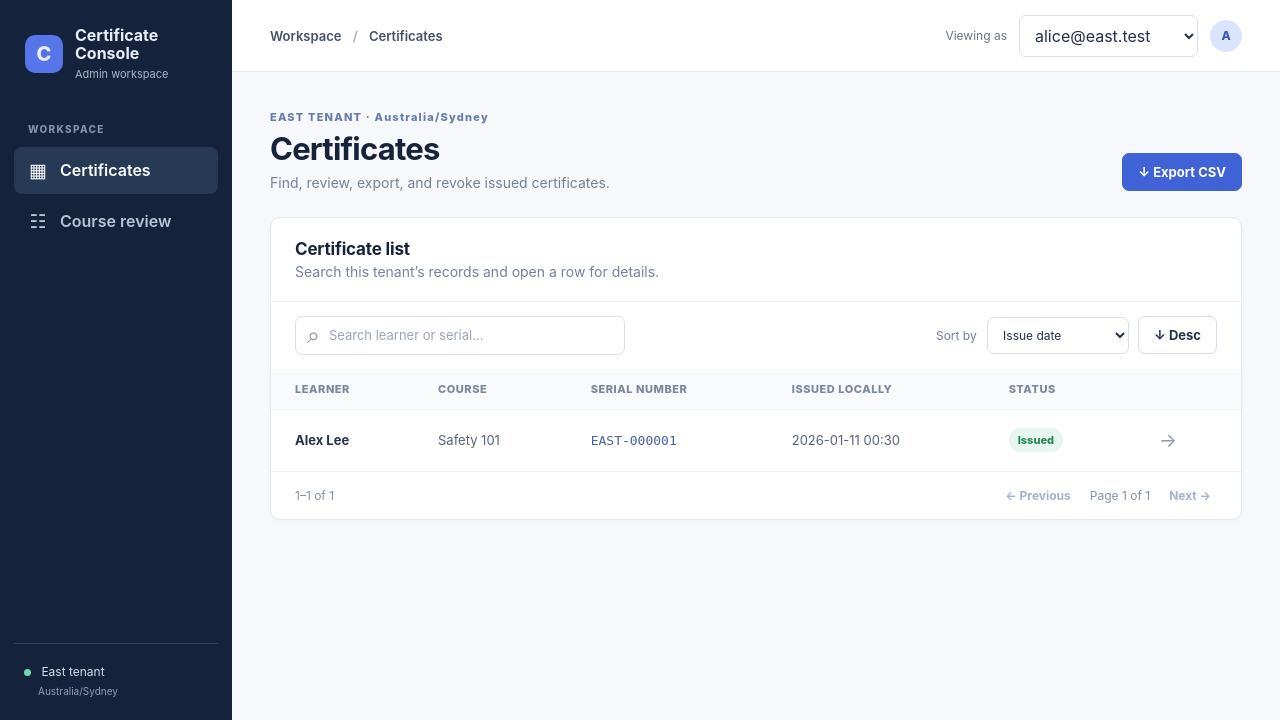
Test: certificate console › loads admins, uses /me tenant, and clears East data on actor switch
The image size is (1280, 720).
Expected: the text "EAST-000001" is shown, [567,409,768,471]
Select "bob@west.test" in the dropdown labelled "Viewing as" at [1108, 36], box [1019,14,1198,56]
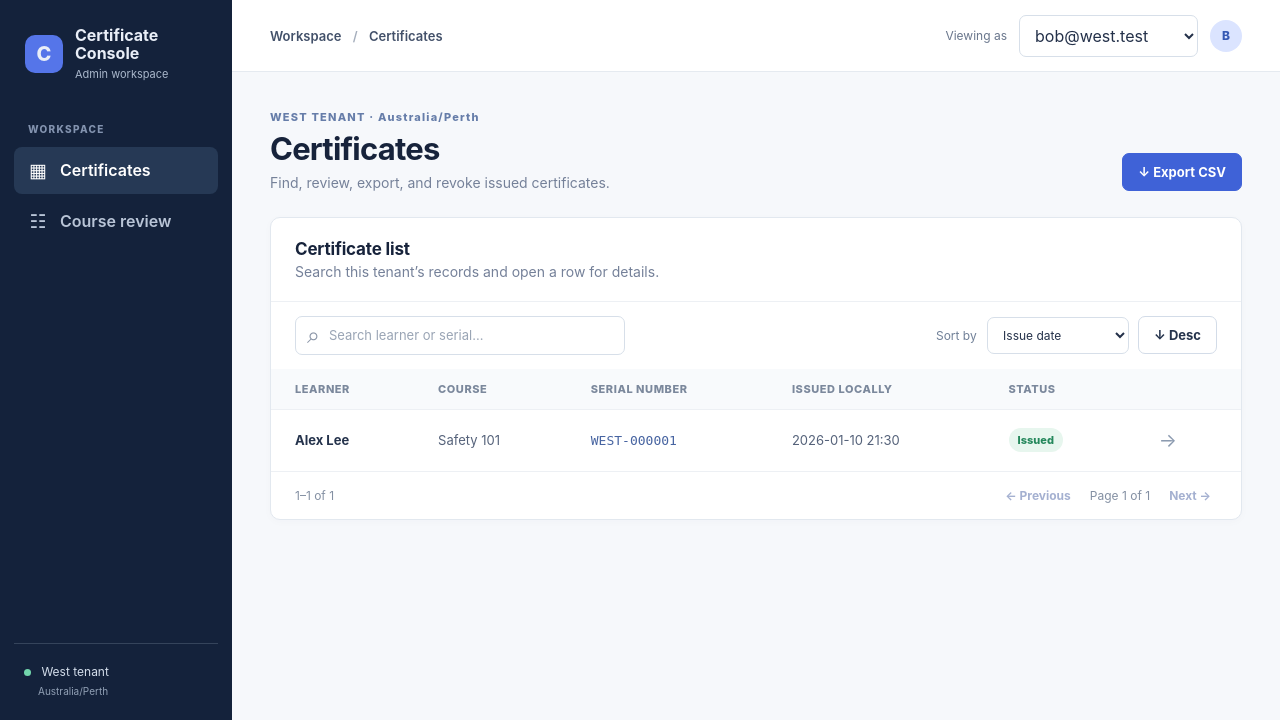
Expected: the text "EAST-000001" is gone
Expected: the text "WEST-000001" is shown, [567,409,768,471]
